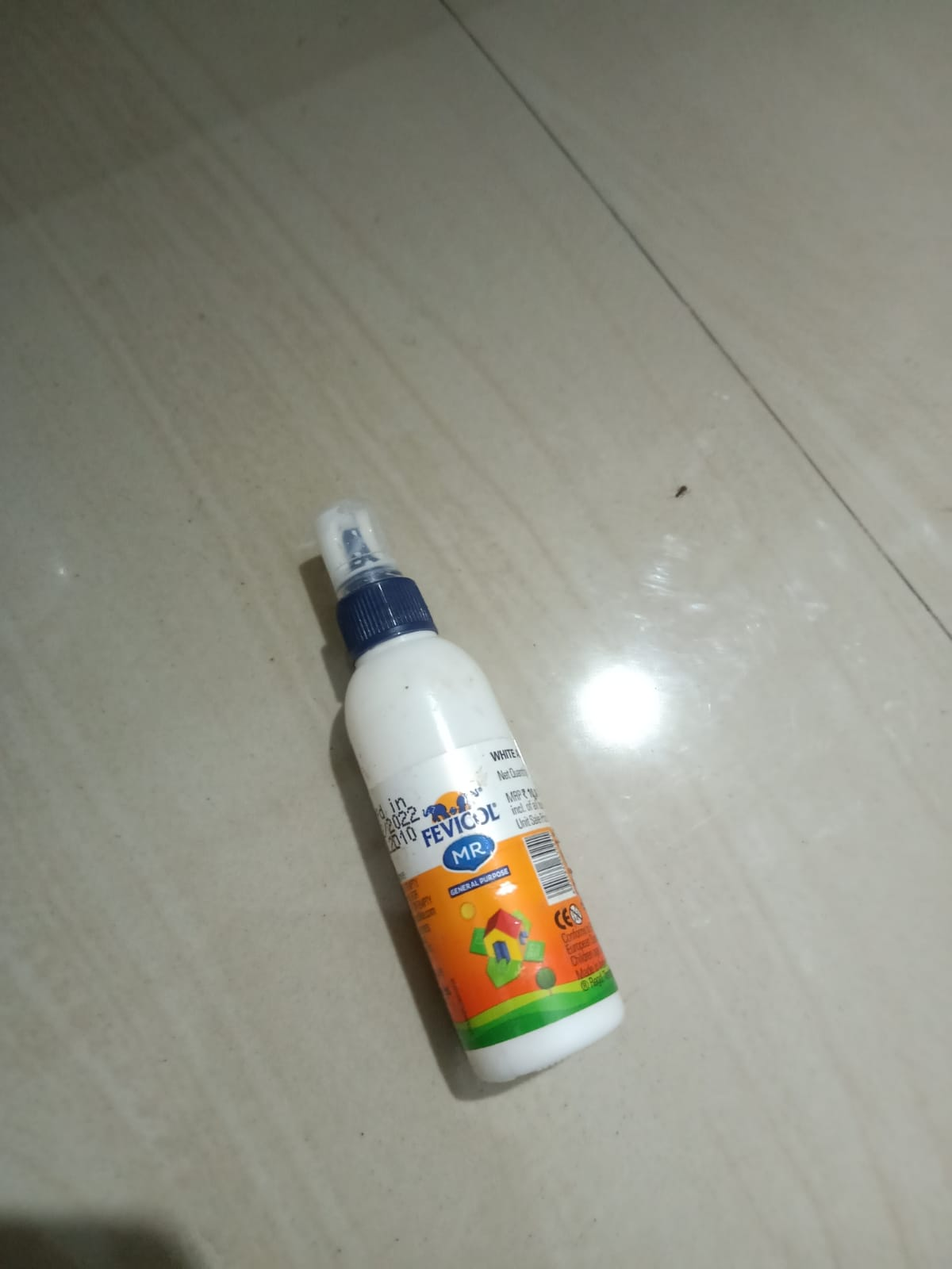plastic: (217, 487, 697, 1159)
